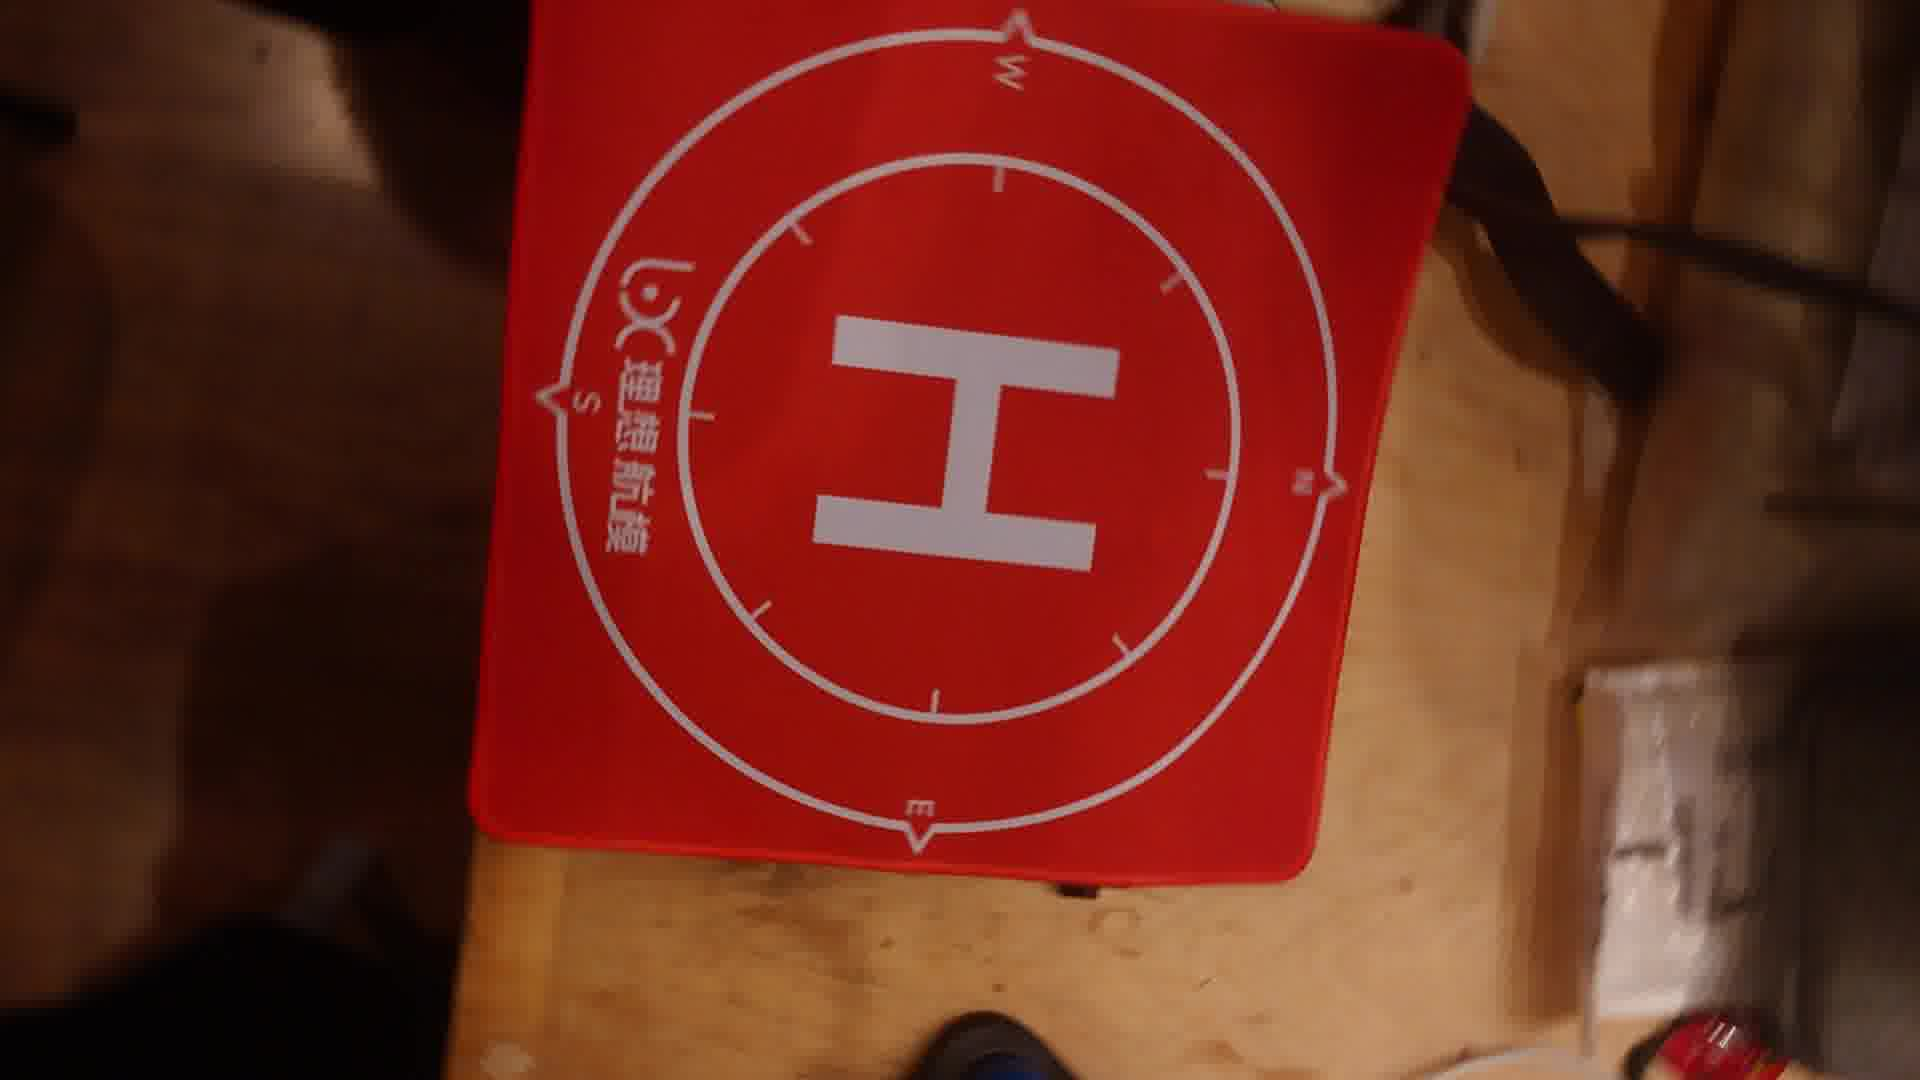H: (812, 316, 1124, 576)
